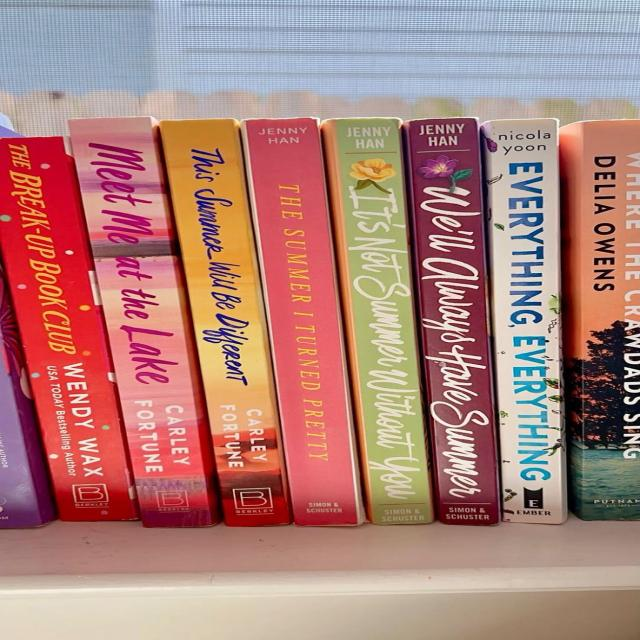book: (69, 117, 220, 527), (159, 119, 290, 526), (0, 137, 138, 521), (242, 117, 365, 526), (323, 117, 433, 524), (403, 117, 500, 525), (482, 118, 567, 524), (561, 120, 639, 520)
